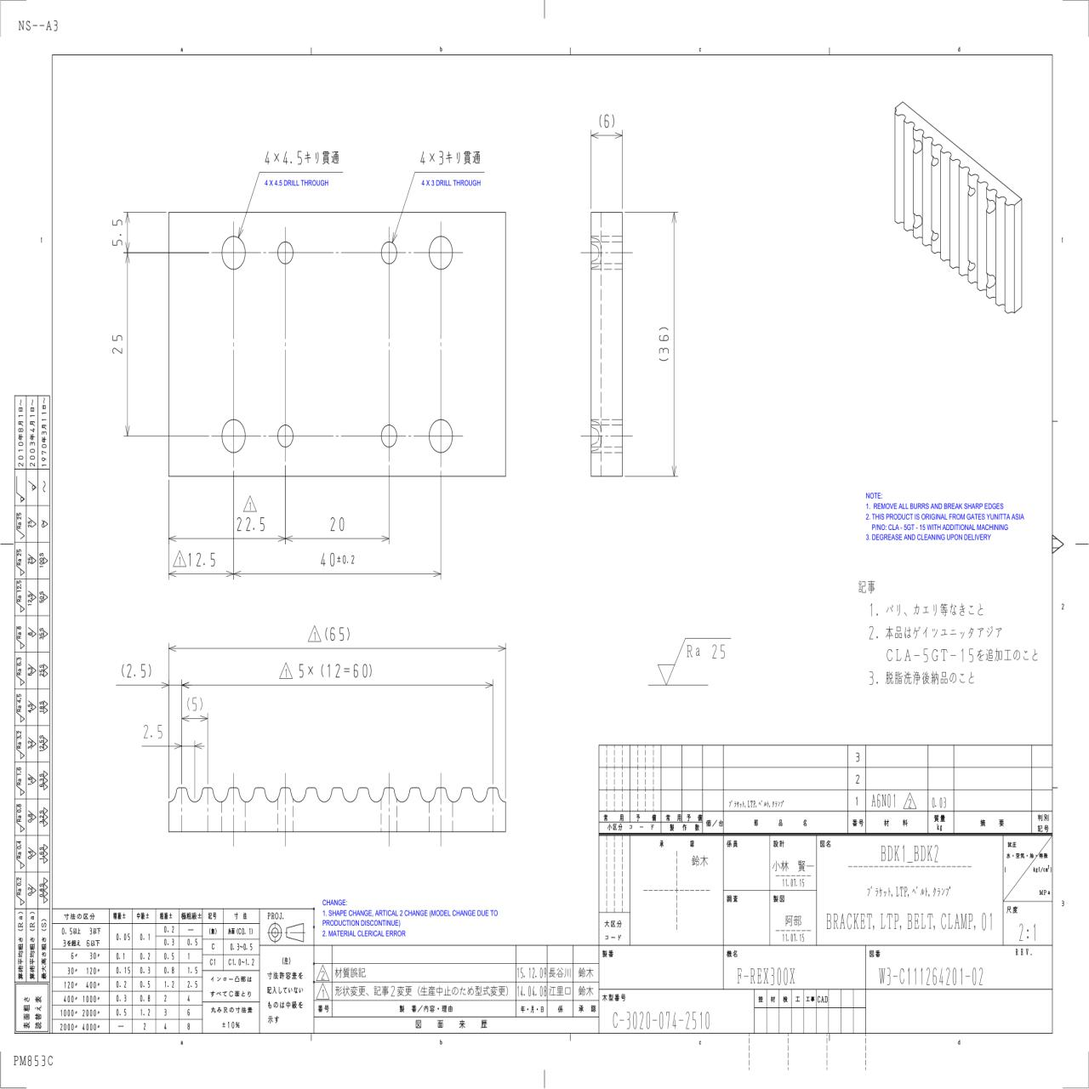basic_dimension: (320, 552, 356, 568), (236, 516, 266, 532), (188, 551, 216, 567), (143, 723, 163, 740), (352, 663, 368, 681), (126, 663, 146, 677), (112, 220, 122, 247), (329, 627, 345, 643), (658, 334, 670, 355), (330, 517, 344, 533), (112, 335, 123, 354), (191, 697, 198, 713), (604, 113, 610, 129)
revision_triangle_symbol: (172, 550, 187, 567), (243, 495, 258, 512), (307, 625, 322, 642), (279, 662, 293, 679)
surface_finish_symbol: (657, 638, 731, 686)
